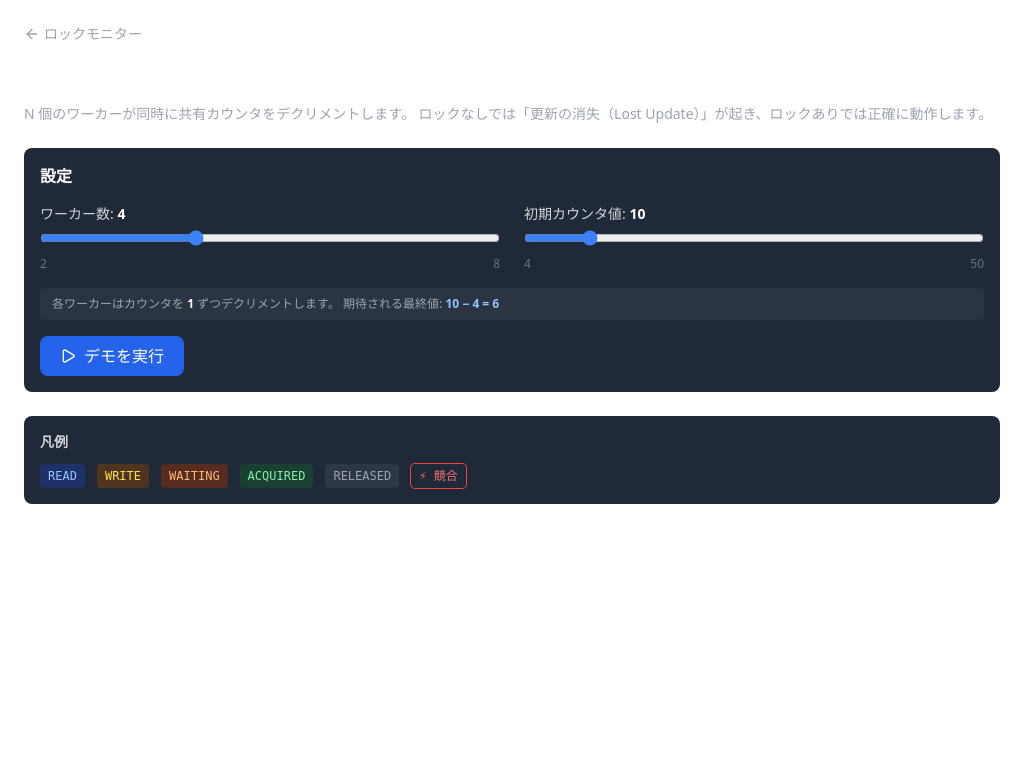
Test: LockDemoPage › switches to events tab and shows event rows
This screenshot has width=1024, height=766.
Click the button "デモを実行": (112, 356) left=40, top=336, right=184, bottom=376
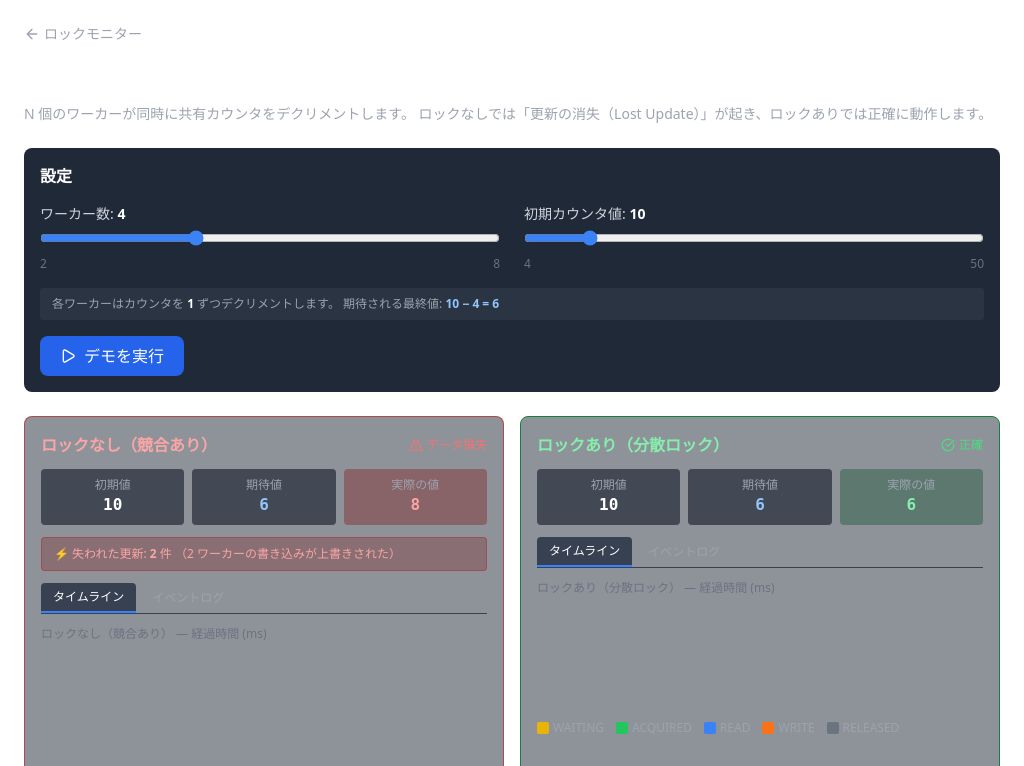
Check: the heading "ロックなし（競合あり）" is shown, box left=41, top=433, right=217, bottom=457
# There are two result panels, each with an "イベントログ" tab button
Click the button "イベントログ" below "⚡ 失われた更新:": (188, 598) left=140, top=583, right=236, bottom=613
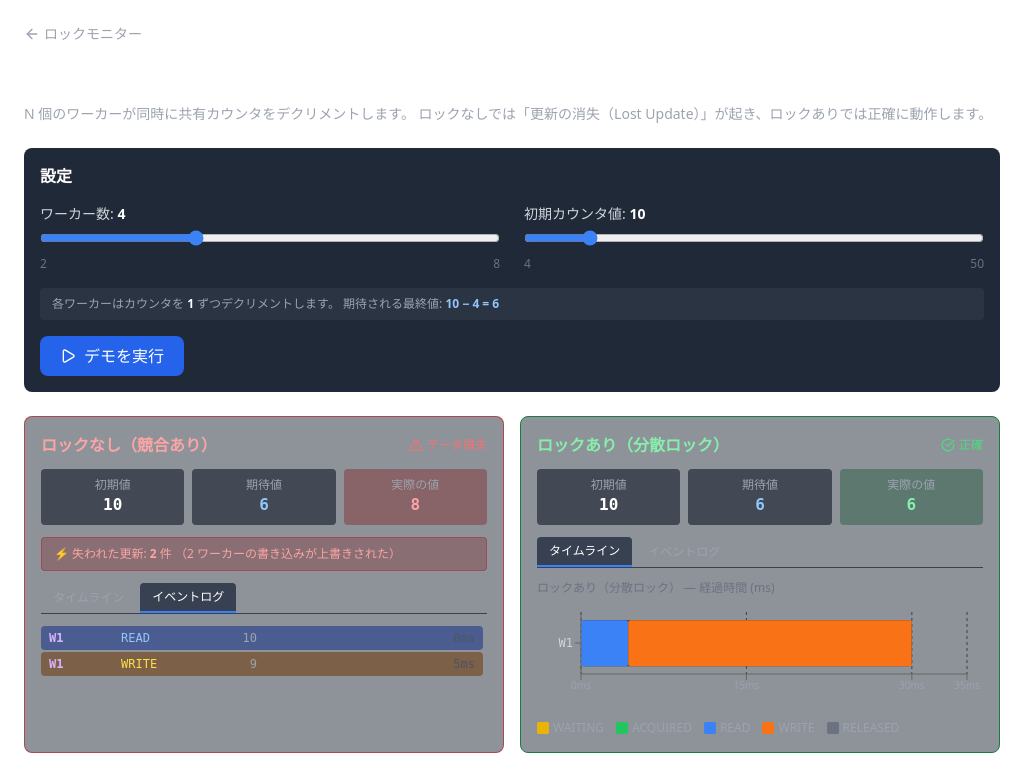
Check: the 1st text "W1" is shown, box left=49, top=631, right=64, bottom=645
